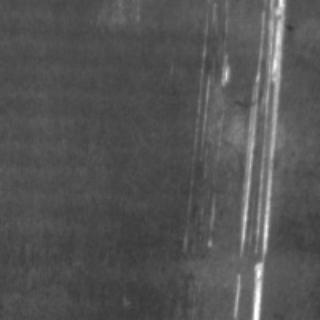scratches: (230, 0, 286, 316), (194, 44, 230, 120)
